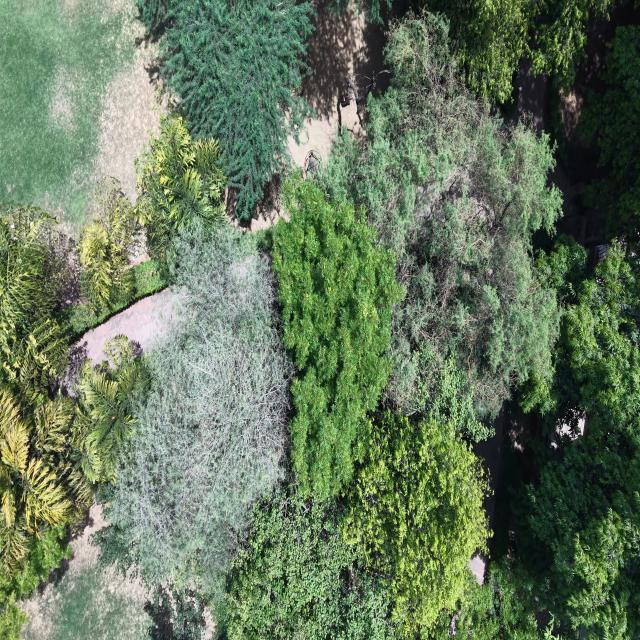DRY_AREA: (0, 0, 166, 236), (0, 0, 158, 236), (13, 47, 158, 232), (19, 506, 150, 639), (59, 46, 158, 211), (289, 0, 385, 169), (289, 0, 385, 167), (289, 0, 384, 168), (290, 5, 383, 168), (76, 288, 174, 364)
VEGETATION_TREE: (0, 0, 639, 639), (98, 14, 575, 638), (322, 17, 638, 638), (99, 226, 434, 637), (2, 118, 290, 593), (97, 225, 392, 637), (225, 179, 487, 638), (322, 14, 561, 419), (52, 225, 289, 593), (0, 183, 171, 637), (103, 224, 290, 596), (221, 382, 487, 639), (221, 412, 487, 639), (223, 430, 486, 639), (507, 237, 639, 638), (0, 204, 117, 638), (523, 240, 639, 638), (273, 176, 401, 497), (0, 204, 92, 639), (139, 0, 313, 221), (0, 204, 87, 639), (0, 337, 147, 578), (65, 115, 225, 334), (0, 0, 142, 236), (343, 411, 489, 637), (224, 488, 394, 639), (408, 0, 615, 104), (420, 0, 614, 103), (542, 236, 639, 432), (61, 178, 173, 335), (0, 390, 92, 577), (18, 536, 154, 639), (418, 0, 550, 103), (0, 204, 67, 403), (136, 115, 225, 259), (581, 25, 639, 242), (75, 335, 150, 483), (430, 558, 540, 639), (0, 524, 71, 639), (63, 259, 170, 335), (521, 0, 615, 86), (78, 179, 135, 313), (415, 346, 492, 441), (2, 525, 70, 597), (143, 580, 211, 639), (537, 235, 587, 310), (145, 584, 206, 639), (329, 0, 392, 23), (135, 0, 177, 32), (0, 597, 28, 639)
WATERBODY: (0, 0, 140, 226)
